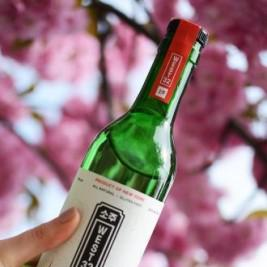soju: (33, 15, 208, 267)
